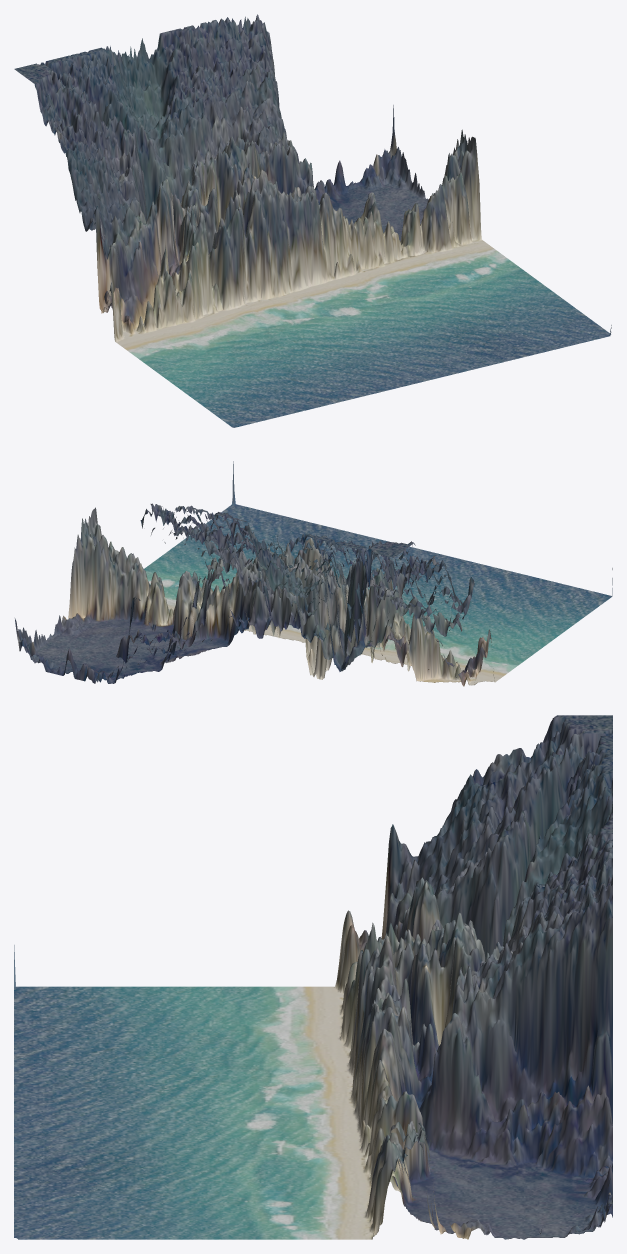
File: dsm_13c05b2053_mesh.glb
3 renders of one model, top to bottom at view 1: azimuth 30°, elevation 25°; view 2: azimuth 150°, elevation 25°; view 3: azimuth 270°, elevation 25°, orthographic. The views are drawn at different scales.
Parts seen in each view (by area): view 1: geometry_0; view 2: geometry_0; view 3: geometry_0.
Boxes of the visible parts, box(x1,y1,x2,y2) form: geometry_0: box(14, 14, 611, 427); geometry_0: box(15, 461, 612, 686); geometry_0: box(14, 715, 612, 1239).
Bounding box in the file's own units: 2 × 1 × 2.
